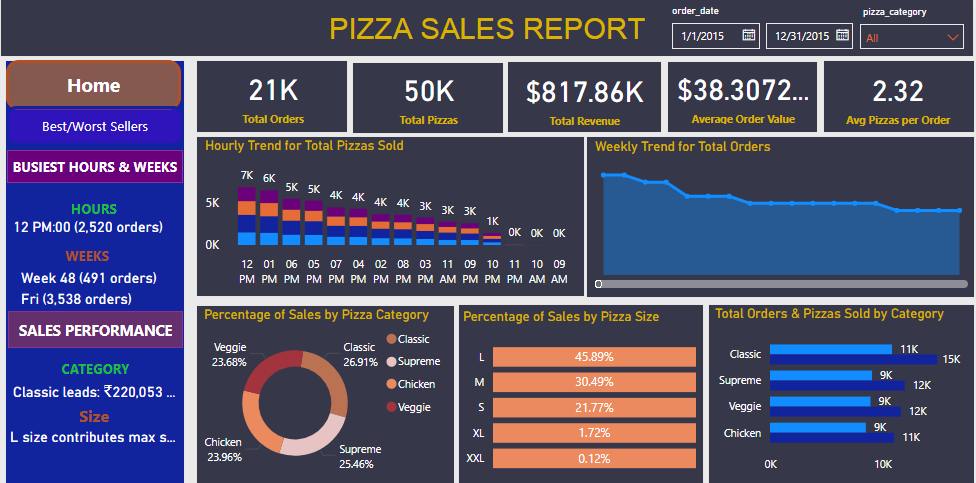

Layout of this report page (visuals, bound fields, positions):
{"tool":"powerbi","page":{"name":"Page 1","canvas":[976,488],"ordinal":0},"visuals":[{"type":"shape","box":[1,0,974,59],"z":0},{"type":"shape","box":[6,62,180,426],"z":1000},{"type":"shape","box":[197,62,152,73],"z":2000},{"type":"shape","box":[353,64,152,72],"z":3000},{"type":"shape","box":[508,63,155,72],"z":4000},{"type":"shape","box":[668,63,151,72],"z":5000},{"type":"shape","box":[824,62,152,73],"z":6000},{"type":"shape","box":[197,138,389,161],"z":7000},{"type":"shape","box":[587,138,389,162],"z":8000},{"type":"card","fields":{"Values":["pizza_sales.Total Orders"]},"box":[200,63,148,69],"z":9000},{"type":"card","fields":{"Values":["pizza_sales.Total Pizzas"]},"box":[356,65,147,67],"z":10000},{"type":"card","fields":{"Values":["pizza_sales.Total Revenue"]},"box":[510,66,151,67],"z":11000},{"type":"card","fields":{"Values":["pizza_sales.Average Order Value"]},"box":[671,63,146,68],"z":12000},{"type":"card","fields":{"Values":["pizza_sales.Avg Pizzas per Order"]},"box":[824,64,150,69],"z":13000},{"type":"columnChart","title":"Hourly Trend for Total Pizzas Sold","fields":{"Category":["pizza_sales.Hour"],"Y":["pizza_sales.Total Pizzas"],"Series":["pizza_sales.pizza_category"]},"box":[201,140,382,156],"z":14000},{"type":"shape","box":[197,307,259,181],"z":15000},{"type":"shape","box":[459,306,246,180],"z":16000},{"type":"shape","box":[709,306,267,180],"z":17000},{"type":"donutChart","title":"Percentage of Sales by Pizza Category","fields":{"Category":["pizza_sales.pizza_category"],"Y":["pizza_sales.Total Revenue"]},"box":[200,309,256,177],"z":18000},{"type":"clusteredBarChart","title":"Total Orders & Pizzas Sold by Category","fields":{"Category":["pizza_sales.pizza_category"],"Y":["pizza_sales.Total Orders","pizza_sales.Total Pizzas"]},"box":[711,308,264,176],"z":19000},{"type":"slicer","fields":{"Values":["pizza_sales.pizza_category"]},"box":[851,3,124,55],"z":20000},{"type":"slicer","fields":{"Values":["pizza_sales.order_date"]},"box":[660,2,200,58],"z":21000},{"type":"lineChart","title":"Weekly Trend for Total Orders","fields":{"Category":["pizza_sales.Hour","pizza_sales.Day Name","pizza_sales.Week Number"],"Y":["pizza_sales.Total Orders"]},"box":[591,141,383,154],"z":22000},{"type":"hundredPercentStackedBarChart","title":"Percentage of Sales by Pizza Size","fields":{"Category":["pizza_sales.pizza_size"],"Y":["pizza_sales.Total Revenue"]},"box":[459,311,243,175],"z":23000},{"type":"actionButton","box":[7,62,175,50],"z":24000},{"type":"actionButton","box":[7,108,178,40],"z":25000},{"type":"shape","box":[8,152,176,33],"z":26000},{"type":"shape","box":[38,190,114,41],"z":27000},{"type":"multiRowCard","fields":{"Values":["pizza_sales.Busiest Hour (Orders)"]},"box":[9,216,176,25],"z":28000},{"type":"shape","box":[49,243,78,29],"z":29000},{"type":"multiRowCard","fields":{"Values":["pizza_sales.Busiest Week"]},"box":[17,267,161,28],"z":30000},{"type":"multiRowCard","fields":{"Values":["pizza_sales.Busiest Day"]},"box":[17,288,143,32],"z":31000},{"type":"shape","box":[9,313,175,37],"z":32000},{"type":"shape","box":[14,352,165,36],"z":33000},{"type":"multiRowCard","fields":{"Values":["pizza_sales.Top Category (Sales)"]},"box":[9,381,173,29],"z":34000},{"type":"shape","box":[45,402,100,31],"z":35000},{"type":"multiRowCard","fields":{"Values":["pizza_sales.Top Size (Sales)"]},"box":[6,426,178,40],"z":36000}]}

Visuals, with their boxes in screenshot pixels (x1, y1, x2, y2), scaled from the page's 976x488 canvas onto the 976x483 screenshot:
shape: BBox(1, 0, 975, 58)
shape: BBox(6, 61, 186, 482)
shape: BBox(197, 61, 349, 134)
shape: BBox(353, 63, 505, 135)
shape: BBox(508, 62, 663, 134)
shape: BBox(668, 62, 819, 134)
shape: BBox(824, 61, 975, 134)
shape: BBox(197, 137, 586, 296)
shape: BBox(587, 137, 975, 297)
card - pizza_sales.Total Orders: BBox(200, 62, 348, 131)
card - pizza_sales.Total Pizzas: BBox(356, 64, 503, 131)
card - pizza_sales.Total Revenue: BBox(510, 65, 661, 132)
card - pizza_sales.Average Order Value: BBox(671, 62, 817, 130)
card - pizza_sales.Avg Pizzas per Order: BBox(824, 63, 974, 132)
"Hourly Trend for Total Pizzas Sold" columnChart: BBox(201, 139, 583, 293)
shape: BBox(197, 304, 456, 482)
shape: BBox(459, 303, 705, 481)
shape: BBox(709, 303, 975, 481)
"Percentage of Sales by Pizza Category" donutChart: BBox(200, 306, 456, 481)
"Total Orders & Pizzas Sold by Category" clusteredBarChart: BBox(711, 305, 975, 479)
slicer - pizza_sales.pizza_category: BBox(851, 3, 975, 57)
slicer - pizza_sales.order_date: BBox(660, 2, 860, 59)
"Weekly Trend for Total Orders" lineChart: BBox(591, 140, 974, 292)
"Percentage of Sales by Pizza Size" hundredPercentStackedBarChart: BBox(459, 308, 702, 481)
actionButton: BBox(7, 61, 182, 111)
actionButton: BBox(7, 107, 185, 146)
shape: BBox(8, 150, 184, 183)
shape: BBox(38, 188, 152, 229)
multiRowCard - pizza_sales.Busiest Hour (Orders): BBox(9, 214, 185, 239)
shape: BBox(49, 241, 127, 269)
multiRowCard - pizza_sales.Busiest Week: BBox(17, 264, 178, 292)
multiRowCard - pizza_sales.Busiest Day: BBox(17, 285, 160, 317)
shape: BBox(9, 310, 184, 346)
shape: BBox(14, 348, 179, 384)
multiRowCard - pizza_sales.Top Category (Sales): BBox(9, 377, 182, 406)
shape: BBox(45, 398, 145, 429)
multiRowCard - pizza_sales.Top Size (Sales): BBox(6, 422, 184, 461)
